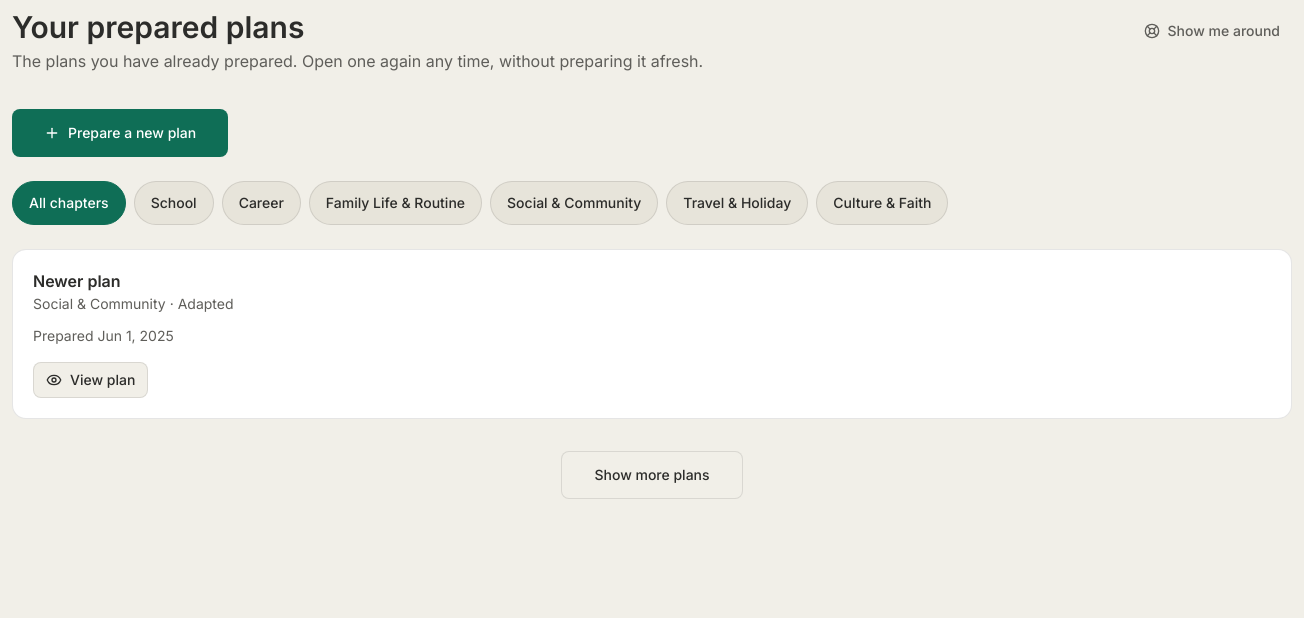
Scenario: PlansList › pages older plans via 'Show more' (the keyset cursor) and hides it on the last page
expect the heading "Newer plan" is shown: met, box [33, 271, 121, 291]
Click the button "Show more plans" at (652, 475), box [561, 451, 742, 499]
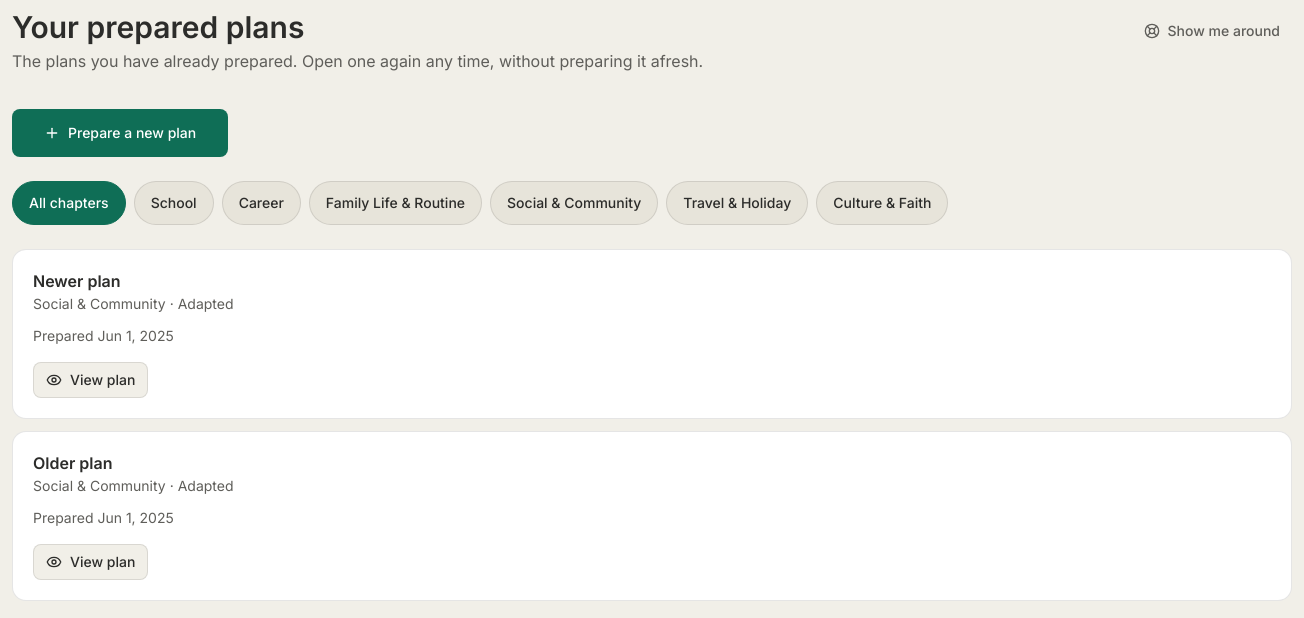
expect the heading "Newer plan" is shown: met, box [33, 271, 121, 291]
expect the heading "Older plan" is shown: met, box [33, 453, 112, 473]
expect the button "Show more plans" is gone: met
